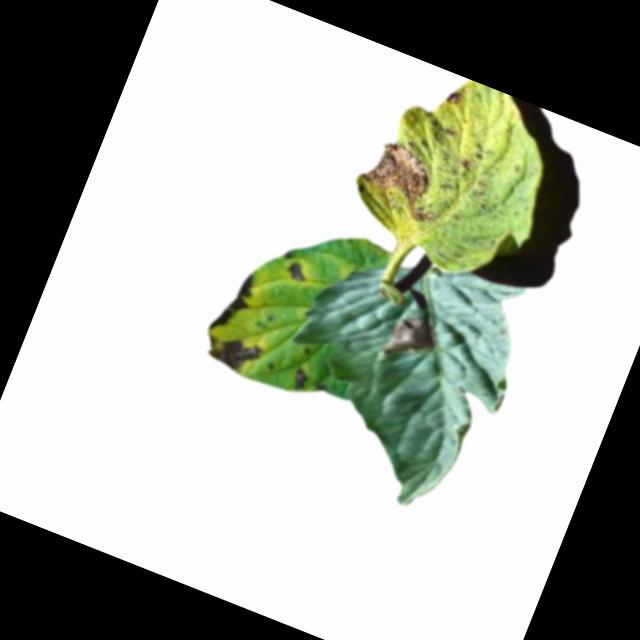Early_blight: (349, 134, 454, 227), (378, 305, 442, 369), (206, 266, 259, 340), (197, 326, 266, 380), (281, 261, 313, 289), (440, 84, 466, 113), (288, 365, 312, 394)
